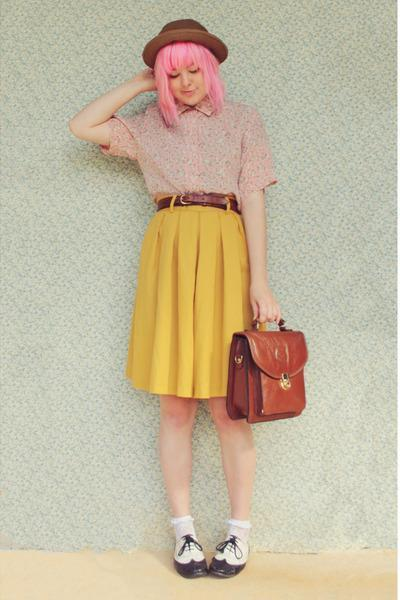bag: (220, 321, 307, 423)
hat: (142, 19, 227, 77)
shirt: (109, 97, 270, 200)
shoe: (173, 540, 245, 578)
skirt: (125, 204, 261, 398)
